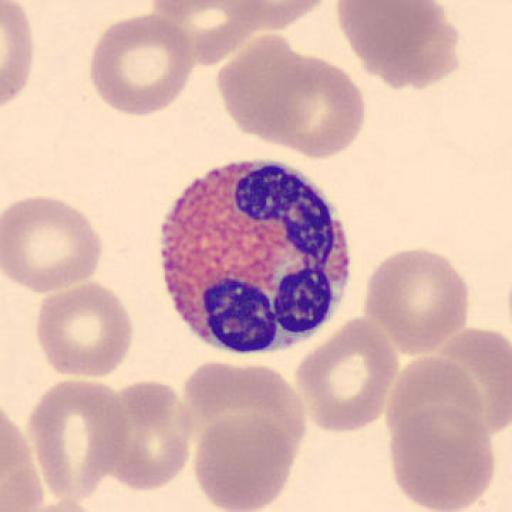RBC: (216, 36, 366, 160), (179, 358, 307, 469), (26, 378, 132, 506), (293, 315, 400, 434), (216, 34, 320, 149), (362, 246, 470, 356), (336, 0, 462, 92), (388, 404, 496, 511), (88, 12, 195, 118), (266, 54, 368, 160), (193, 412, 298, 512), (3, 194, 104, 294), (385, 355, 487, 453), (104, 380, 193, 492), (149, 0, 333, 54), (36, 280, 135, 380), (436, 325, 512, 434), (149, 0, 265, 69), (158, 0, 333, 34), (0, 410, 43, 512), (2, 0, 34, 109), (228, 0, 332, 31), (25, 498, 103, 512)
WBC: (160, 159, 351, 356)
